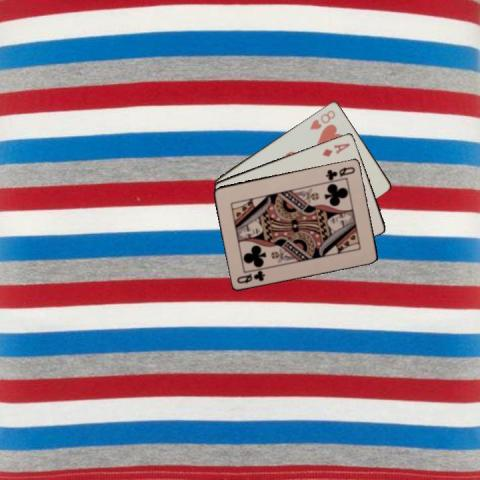8h: (306, 107, 336, 131)
Ad: (319, 140, 352, 158)
Qc: (322, 163, 356, 181), (234, 267, 267, 285)
